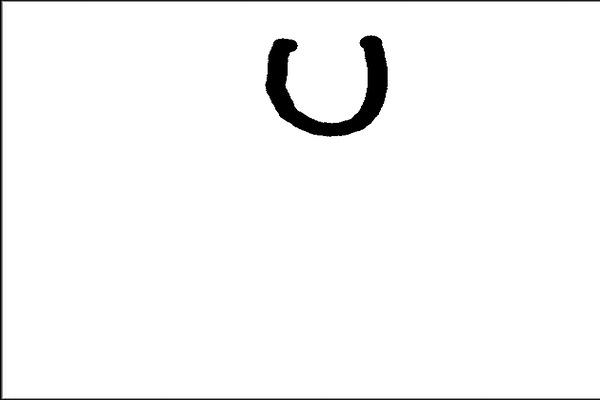U: (254, 26, 402, 145)
